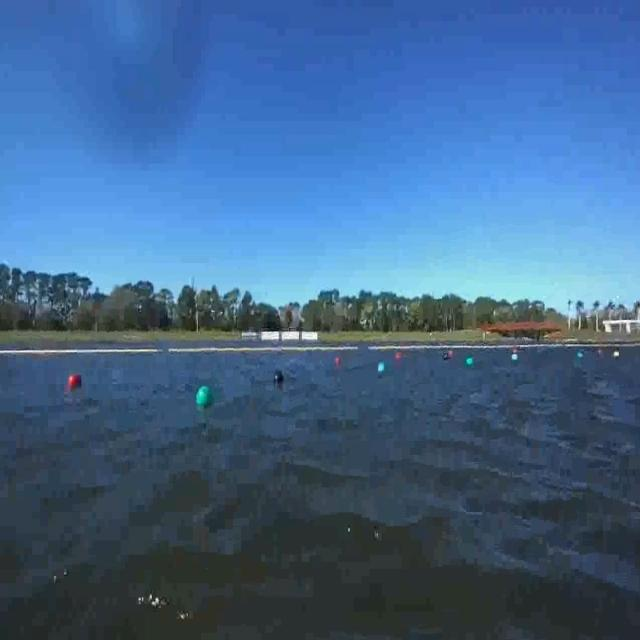black-buoy: (270, 367, 285, 388)
blue-buoy: (64, 367, 85, 394)
green-buoy: (198, 384, 214, 406)
